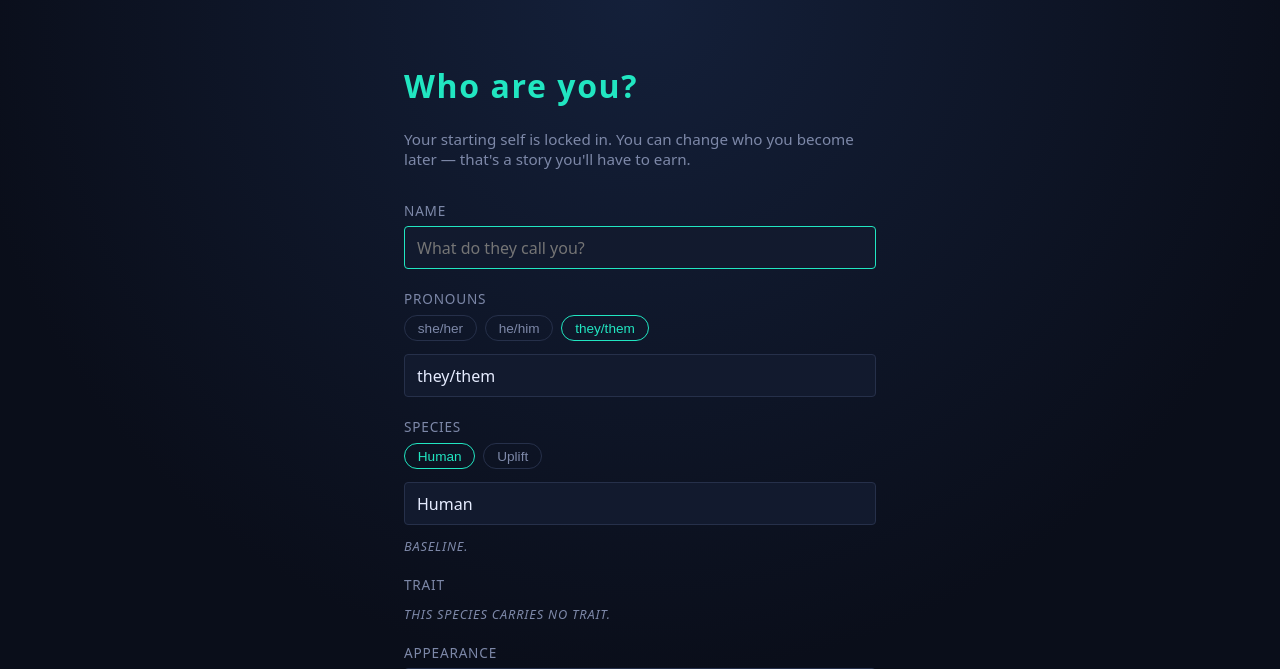
it: CreationScreen › keeps the arrive button disabled until a name is entered
Type "Kai" into the field with placeholder "What do they call you?" at (640, 248), box x1=404 y1=226 x2=876 y2=270
(page scrolled)
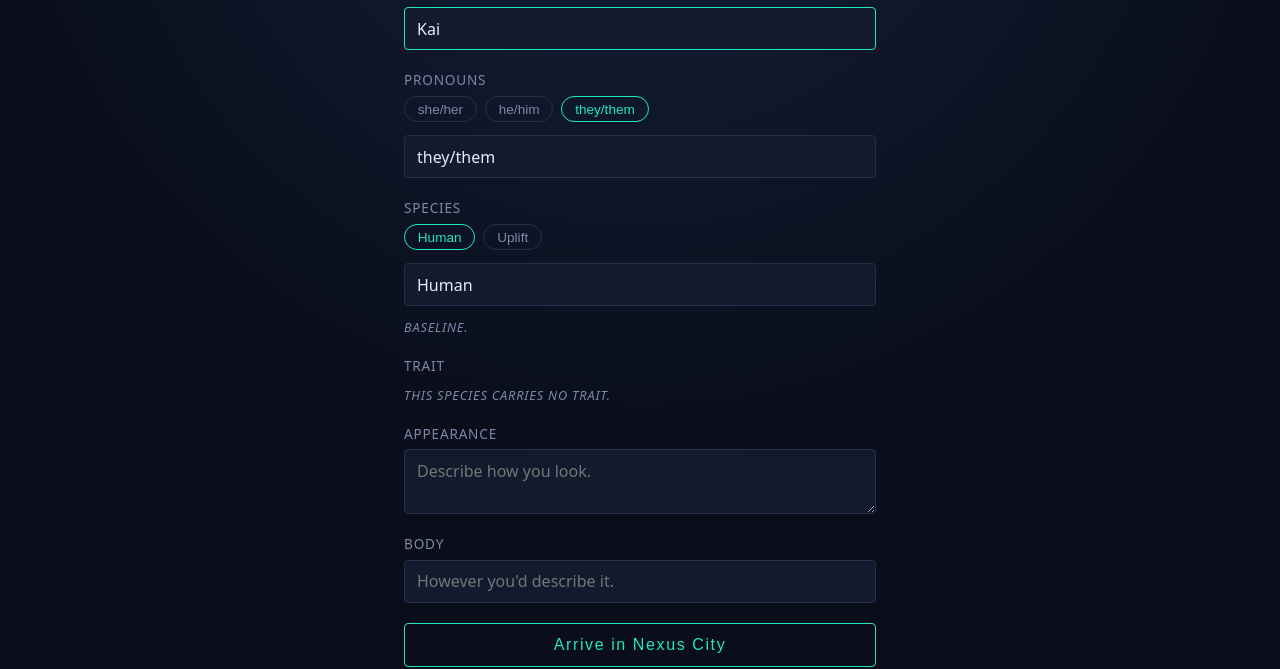
Now the button "Arrive in Nexus City" is enabled, box x1=404 y1=623 x2=876 y2=667
